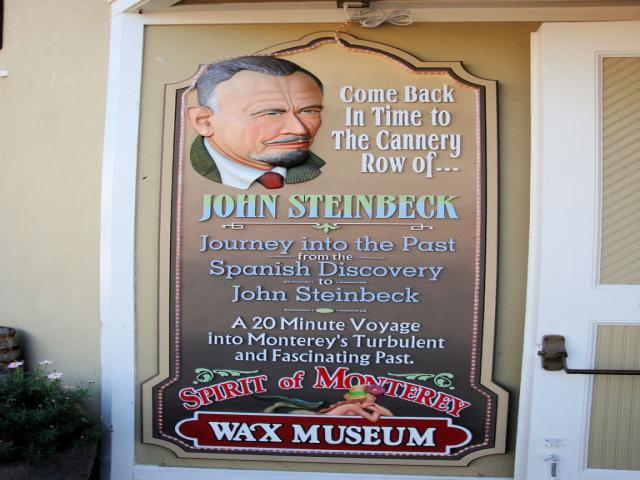Door-handle: (539, 333, 640, 375)
